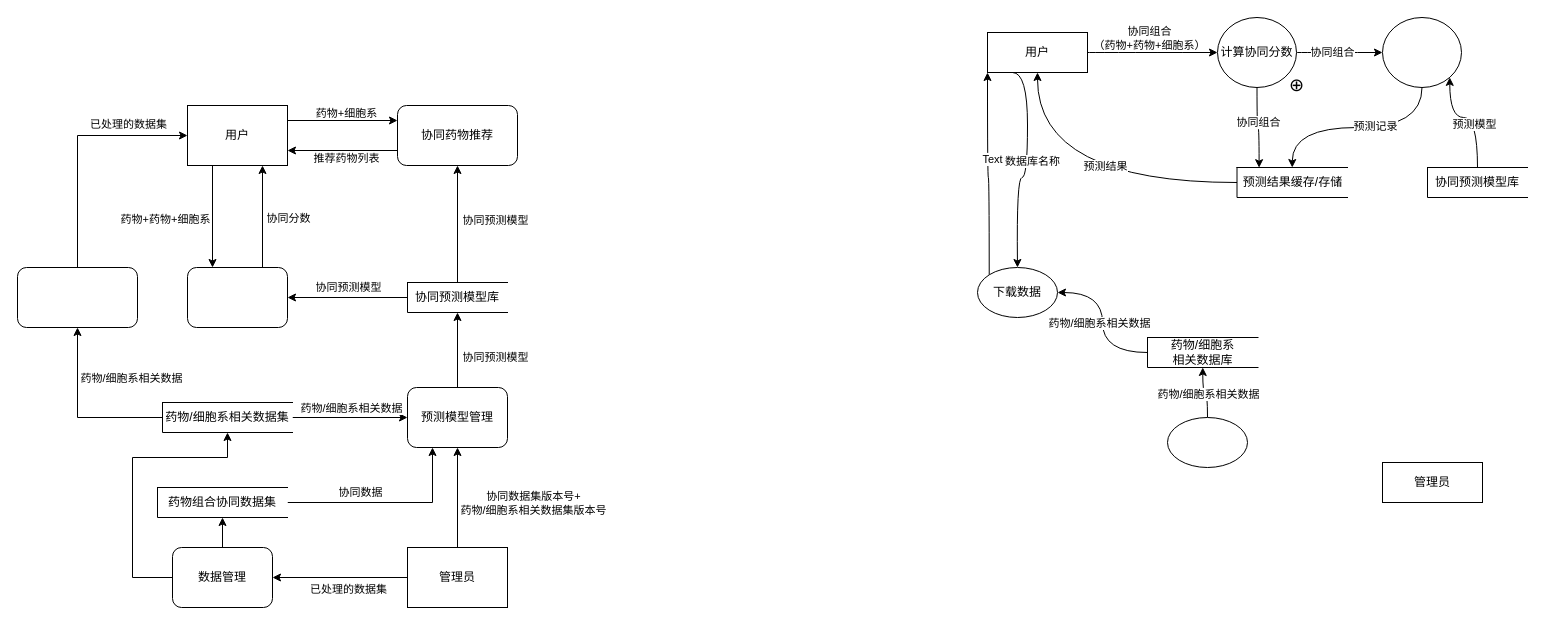
Image size: 1545x625. Some labels were removed from this diagram. Each missing label, with the centre of its shape:
协同分数 实时预测: point (1422, 52)
协同分数计算: point (237, 297)
数据下载: point (77, 297)
管理数据: point (1207, 442)
